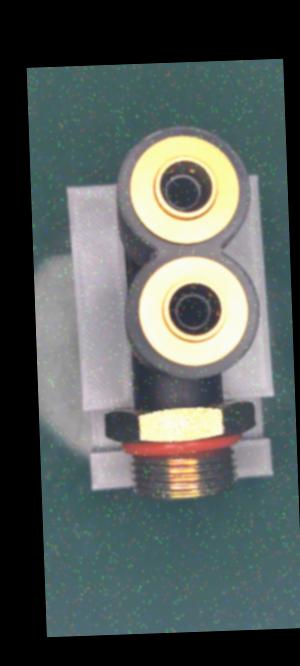joint line: (179, 375, 187, 394)
